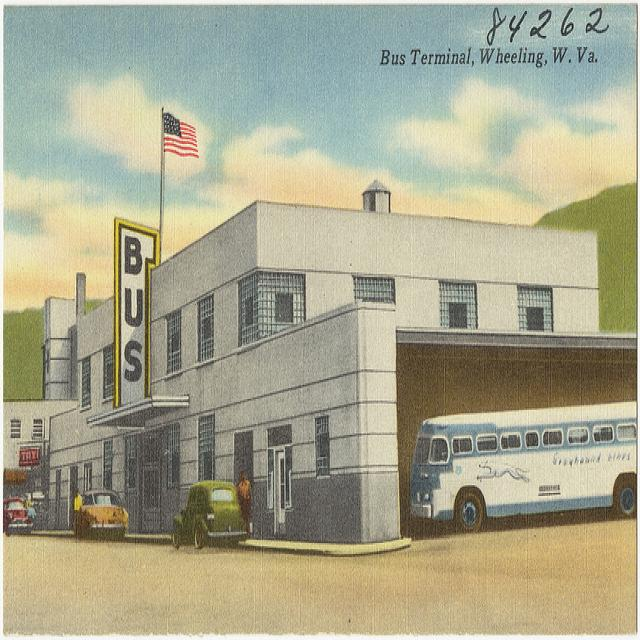Vehicle: (408, 399, 636, 534), (172, 478, 248, 550), (72, 490, 130, 541), (4, 494, 33, 536)
